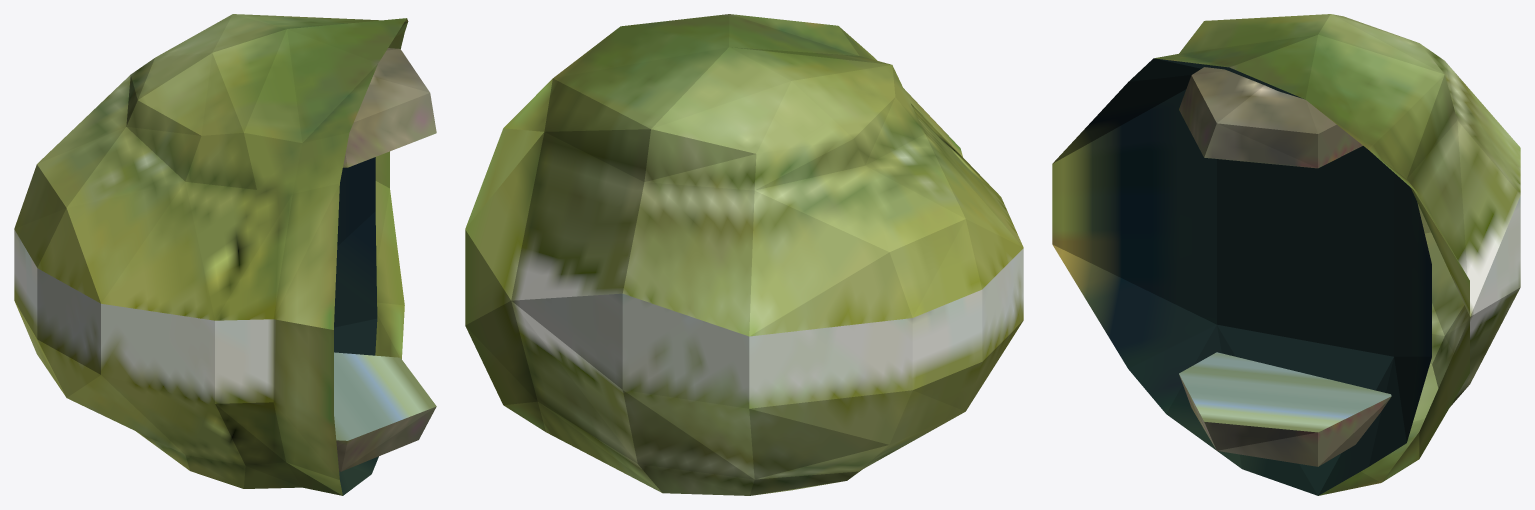
The model's file is WGHELMET.obj.
3 views of the same model, side by side, from view 1: azimuth 30°, elevation 25°; view 2: azimuth 150°, elevation 25°; view 3: azimuth 270°, elevation 25° (orthographic). The views are drawn at different scales.
Visible parts, largest first — view 1: Node 0; view 2: Node 0; view 3: Node 0.
Boxes of the visible parts, <box> form: Node 0: <box>14,14,436,495</box>; Node 0: <box>465,14,1023,495</box>; Node 0: <box>1052,14,1520,495</box>.
Bounding box in the file's own units: 0.38 × 0.36 × 0.37.
2 materials, 2 textured.
